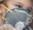with_mask: (2, 1, 33, 30)
